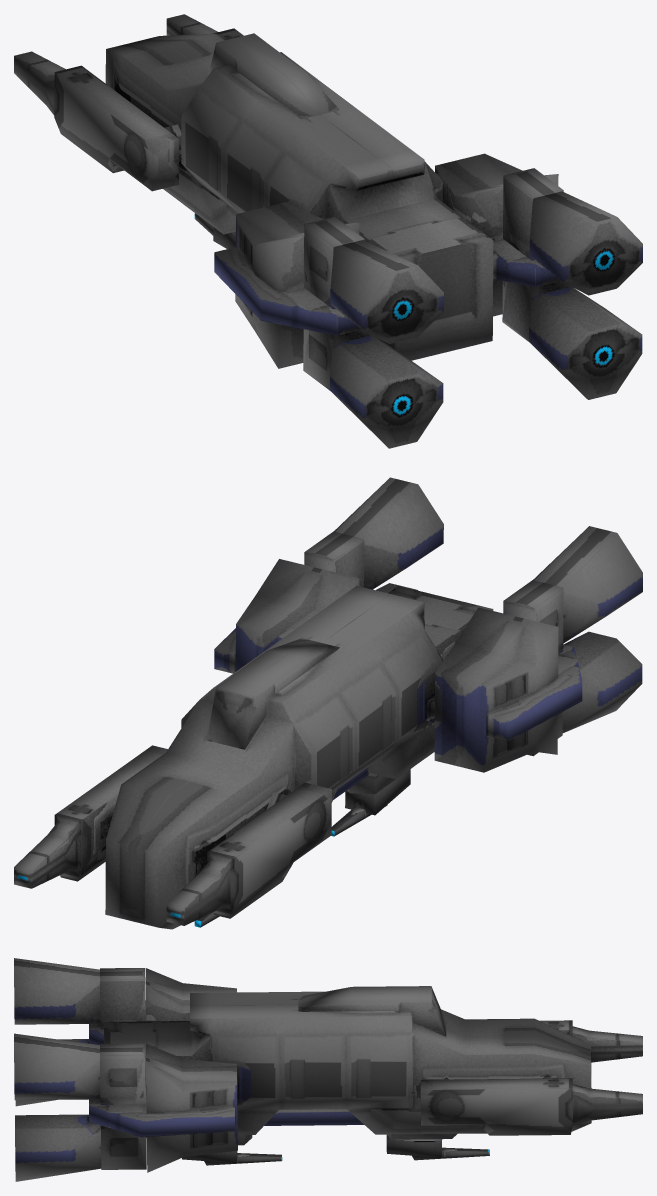
File: blue_spaceship_02.fbx
3 views of the same model, one above another, from view 1: azimuth 30°, elevation 25°; view 2: azimuth 150°, elevation 25°; view 3: azimuth 270°, elevation 25° (orthographic). The views are drawn at different scales.
Visible parts, largest first — view 1: FedFrigateMod; view 2: FedFrigateMod; view 3: FedFrigateMod.
Part boxes in pixels (left/top/right/bottom): FedFrigateMod: left=14, top=14, right=642, bottom=448; FedFrigateMod: left=14, top=477, right=642, bottom=929; FedFrigateMod: left=14, top=958, right=642, bottom=1181.
Size of the model in its own units: 2959 by 6462 by 1921.
